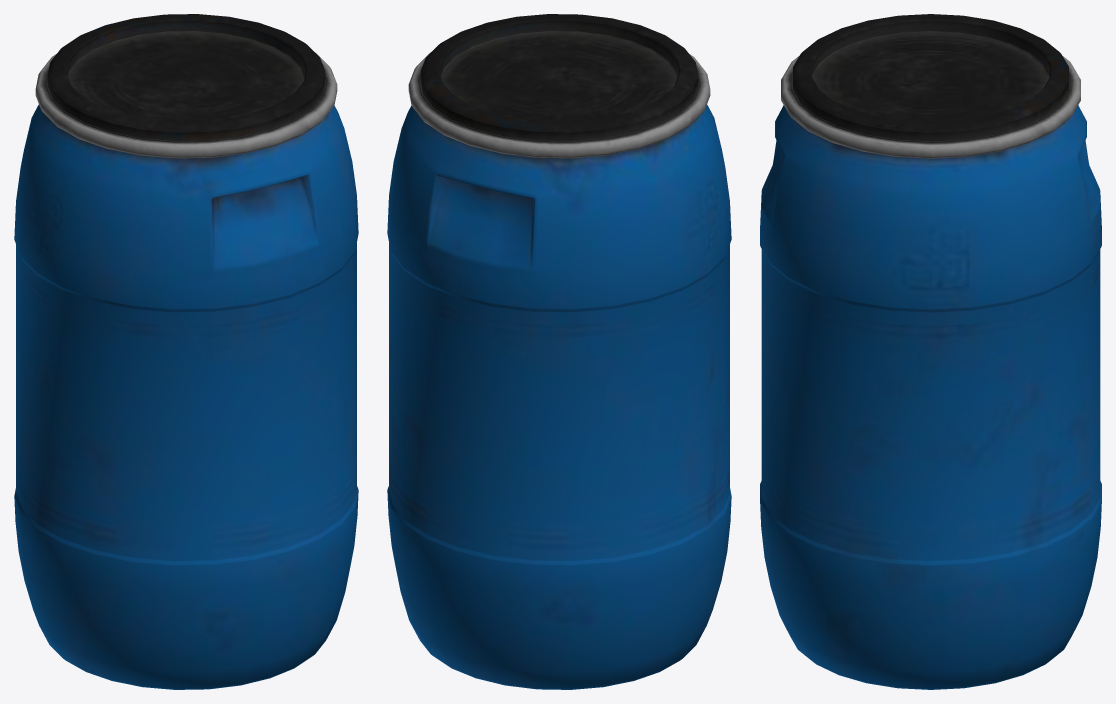
Rendered from Barrel_02.glb.
3 renders of one model, left to right at view 1: azimuth 30°, elevation 25°; view 2: azimuth 150°, elevation 25°; view 3: azimuth 270°, elevation 25°, orthographic.
Visible parts, largest first — view 1: Barrel_02; view 2: Barrel_02; view 3: Barrel_02.
Boxes of the visible parts, box(x1,y1,x2,y2) form: Barrel_02: box(14, 14, 358, 689); Barrel_02: box(387, 14, 731, 689); Barrel_02: box(760, 14, 1101, 689).
Bounding box in the file's own units: 0.4882 × 0.88 × 0.4846.
Materials: 1 (1 with a texture image).
